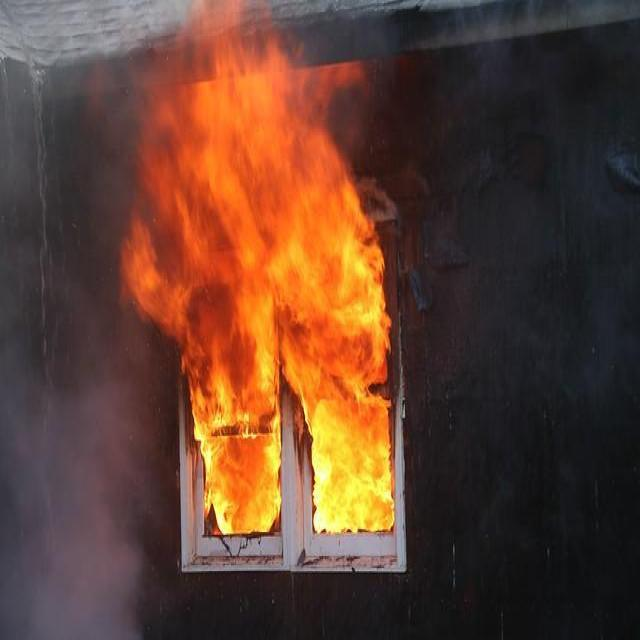fire: (112, 21, 416, 553)
